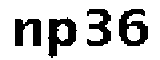3: (83, 5, 110, 51)
6: (117, 8, 151, 49)
n: (12, 17, 44, 50)
p: (43, 13, 81, 60)
